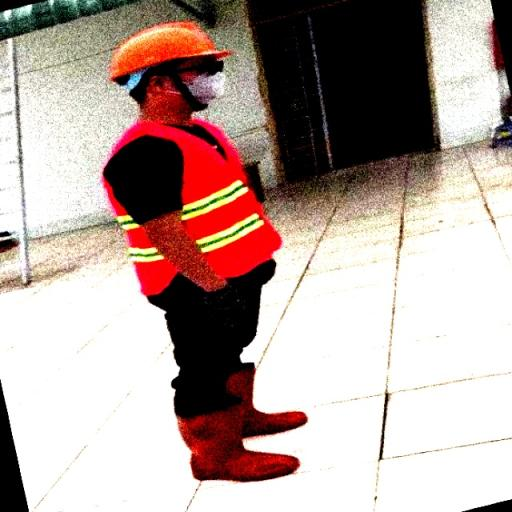Person: (66, 8, 334, 501)
boots: (174, 393, 302, 485), (210, 366, 308, 439)
gloves: (198, 280, 244, 328), (242, 252, 279, 288)
goggles: (166, 59, 228, 74)
